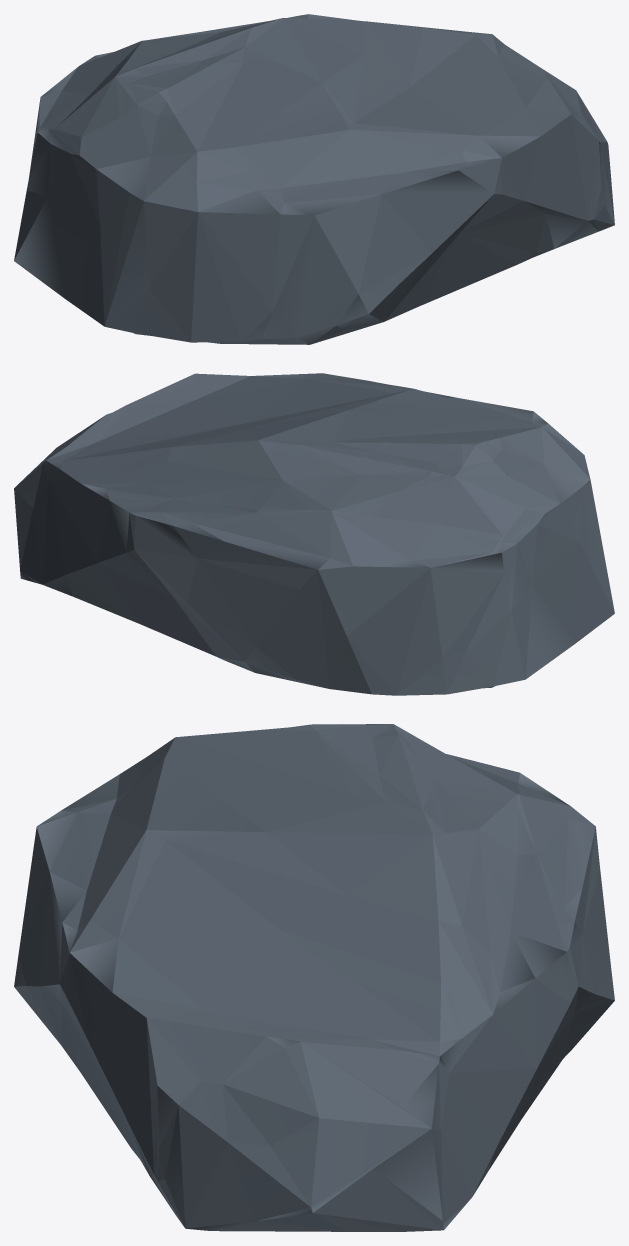
Rendered from boulder-slab.glb.
3 views of the same model, one above another, from view 1: azimuth 30°, elevation 25°; view 2: azimuth 150°, elevation 25°; view 3: azimuth 270°, elevation 25° (orthographic). The views are drawn at different scales.
Parts seen in each view (by area): view 1: boulder-slab; view 2: boulder-slab; view 3: boulder-slab.
Part boxes in pixels (x1,y1,x2,y2): boulder-slab: (14,14,614,344); boulder-slab: (14,373,614,695); boulder-slab: (14,724,614,1231).
Size of the model in its own units: 1.36 by 0.4738 by 1.01.
